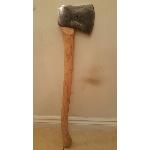Kapak: (49, 0, 110, 150)
